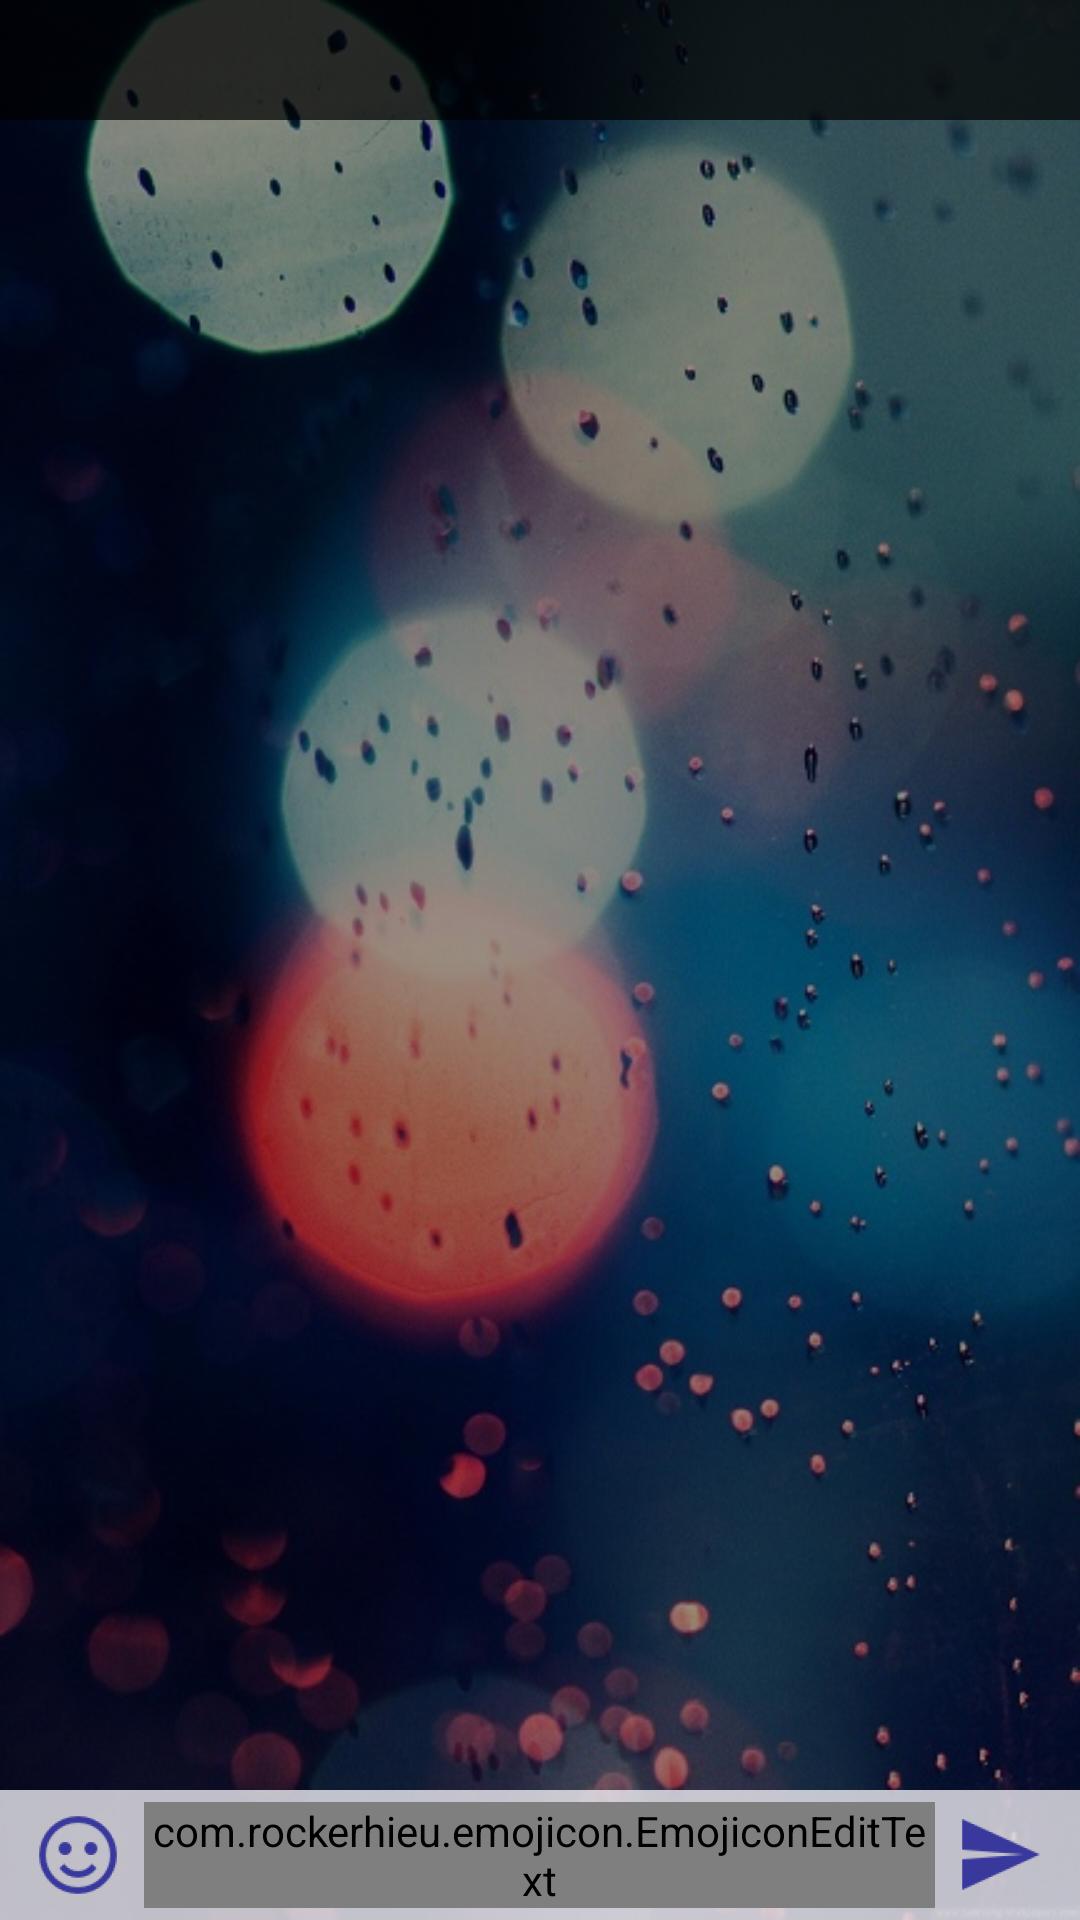

Where icons sit on this 1080 x 1920 app screen, as bbox=[x1, y1, x2, y2]:
msgsendbtn: bbox=[962, 1819, 1040, 1890]
